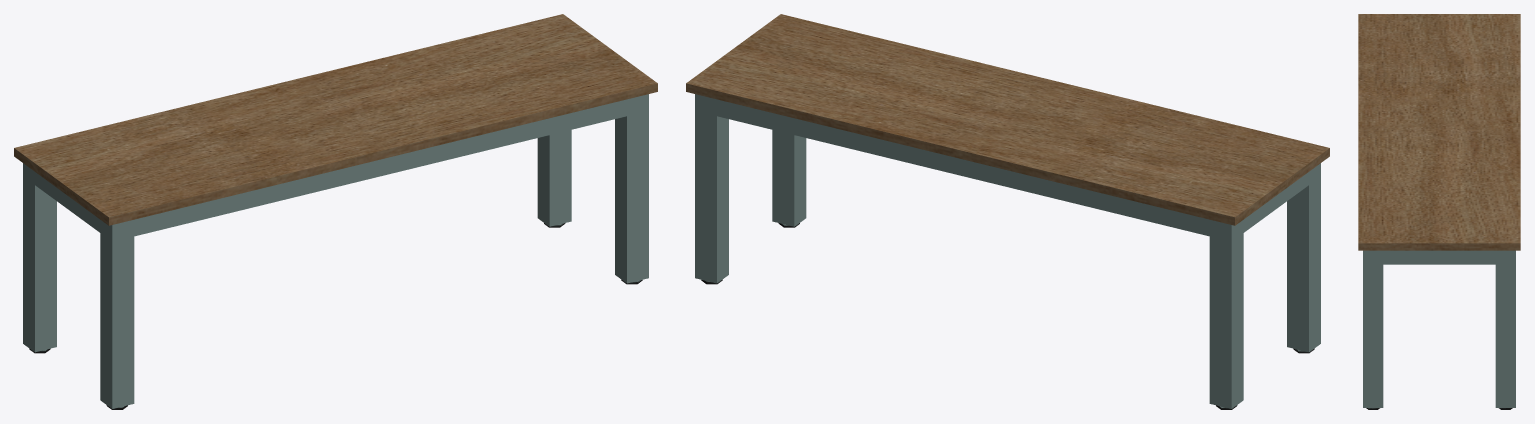
Rendered from CoffeeTable.glb.
3 renders of one model, left to right at view 1: azimuth 30°, elevation 25°; view 2: azimuth 150°, elevation 25°; view 3: azimuth 270°, elevation 25°, orthographic. The views are drawn at different scales.
Parts seen in each view (by area): view 1: Cube; view 2: Cube; view 3: Cube.
Boxes of the visible parts, <box> form: Cube: <box>14,14,657,409</box>; Cube: <box>686,14,1329,409</box>; Cube: <box>1358,14,1520,409</box>.
Bounding box in the file's own units: 1.25 × 0.4325 × 0.373.
Materials: 3 (3 with a texture image).
